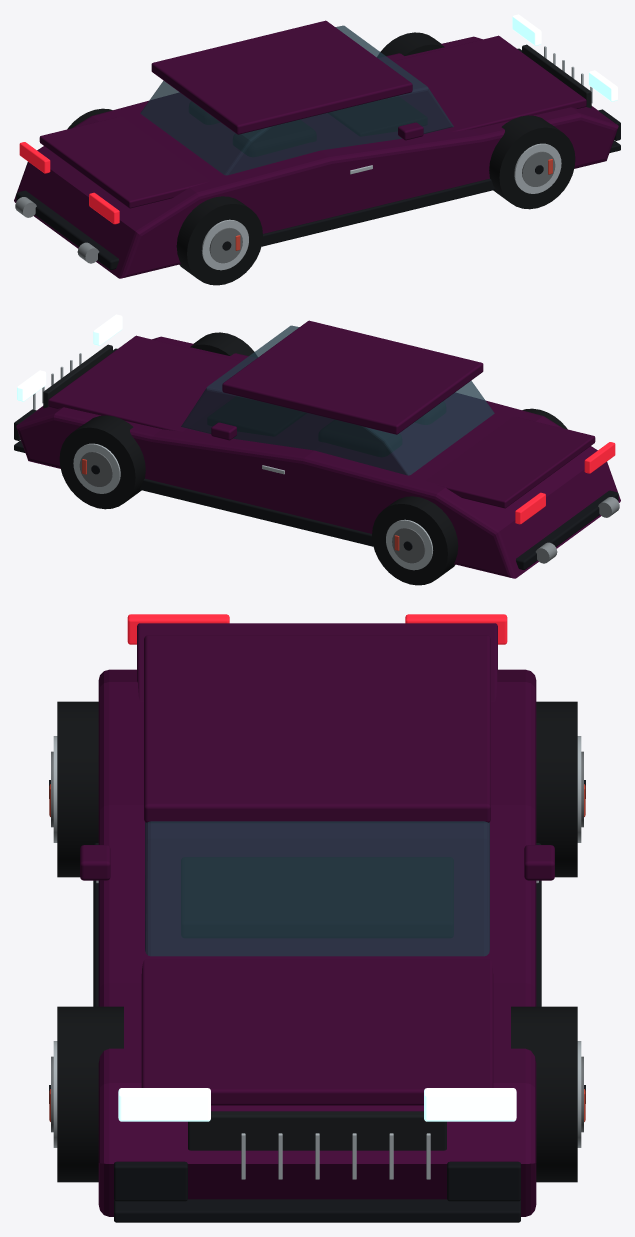
Rendered from chevy_ssr.glb.
3 views of the same model, one above another, from view 1: azimuth 30°, elevation 25°; view 2: azimuth 150°, elevation 25°; view 3: azimuth 270°, elevation 25° (orthographic). The views are drawn at different scales.
Visible parts, largest first — view 1: sculpted_body, roof, glasshouse, hood_center, rear_deck, front_right_wheel_tire, rear_right_wheel_tire, side_skirt_1, dashboard, seat_1, rear_diffuser, front_left_wheel_tire (+9 smaller); view 2: sculpted_body, roof, glasshouse, hood_center, rear_deck, front_left_wheel_tire, rear_left_wheel_tire, side_skirt_-1, dashboard, seat_-1, rear_diffuser, front_right_wheel_tire (+9 smaller); view 3: sculpted_body, roof, hood_center, glasshouse, dashboard, front_grille, front_splitter, front_left_wheel_tire, front_right_wheel_tire, rear_left_wheel_tire, rear_right_wheel_tire, rear_deck (+8 smaller).
Boxes of the visible parts, bbox=[...] form: sculpted_body: bbox=[14, 36, 618, 278]; roof: bbox=[151, 20, 412, 134]; glasshouse: bbox=[140, 25, 453, 175]; hood_center: bbox=[386, 35, 586, 131]; rear_deck: bbox=[39, 116, 209, 208]; front_right_wheel_tire: bbox=[489, 115, 575, 209]; rear_right_wheel_tire: bbox=[176, 196, 262, 285]; side_skirt_1: bbox=[261, 178, 495, 246]; dashboard: bbox=[328, 96, 426, 135]; seat_1: bbox=[233, 120, 315, 156]; rear_diffuser: bbox=[16, 190, 118, 269]; front_left_wheel_tire: bbox=[377, 32, 444, 57]; sculpted_body: bbox=[16, 336, 620, 578]; roof: bbox=[222, 320, 483, 434]; glasshouse: bbox=[181, 325, 494, 475]; hood_center: bbox=[48, 335, 248, 431]; rear_deck: bbox=[425, 416, 595, 508]; front_left_wheel_tire: bbox=[59, 415, 145, 509]; rear_left_wheel_tire: bbox=[372, 496, 458, 585]; side_skirt_-1: bbox=[139, 478, 373, 546]; dashboard: bbox=[208, 396, 306, 435]; seat_-1: bbox=[319, 420, 401, 456]; rear_diffuser: bbox=[516, 490, 618, 569]; front_right_wheel_tire: bbox=[190, 332, 257, 357]; sculpted_body: bbox=[98, 669, 536, 1216]; roof: bbox=[144, 635, 490, 822]; hood_center: bbox=[141, 959, 493, 1105]; glasshouse: bbox=[145, 821, 489, 956]; dashboard: bbox=[181, 857, 453, 937]; front_grille: bbox=[188, 1111, 446, 1150]; front_splitter: bbox=[114, 1199, 520, 1222]; front_left_wheel_tire: bbox=[511, 1006, 577, 1182]; front_right_wheel_tire: bbox=[57, 1006, 123, 1182]; rear_left_wheel_tire: bbox=[536, 701, 577, 877]; rear_right_wheel_tire: bbox=[57, 701, 98, 877]; rear_deck: bbox=[137, 623, 497, 701].
Size of the model in its own units: 5.09 by 1.25 by 2.26.
